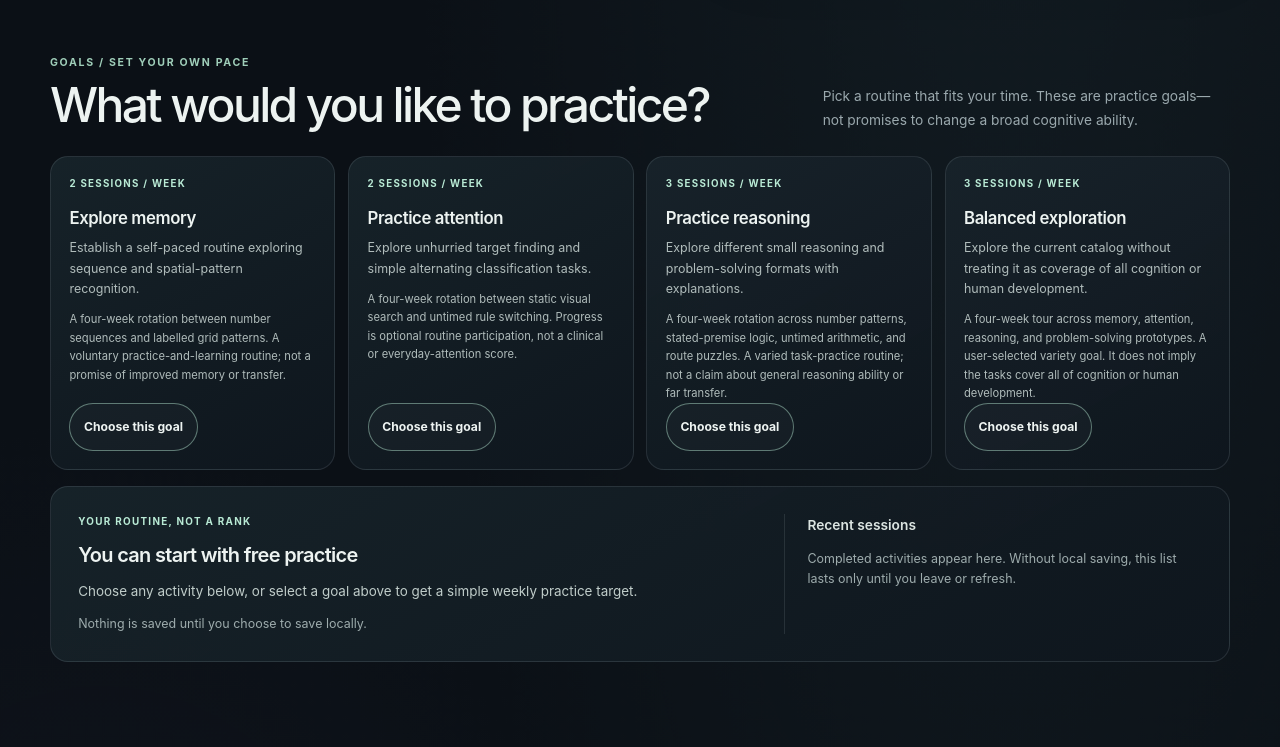
Test: TrainingHub › pauses and resumes the schedule clock without making goals mandatory
The image size is (1280, 747).
(page scrolled)
Expected: the element "Explore memory" is shown, [50,156,335,470]
What coordinates should you click on to do the following:
click the button "Choose this goal" below "Explore memory"
I would click on:
 (134, 427)
Its box is [69,403,198,451].
(page scrolled)
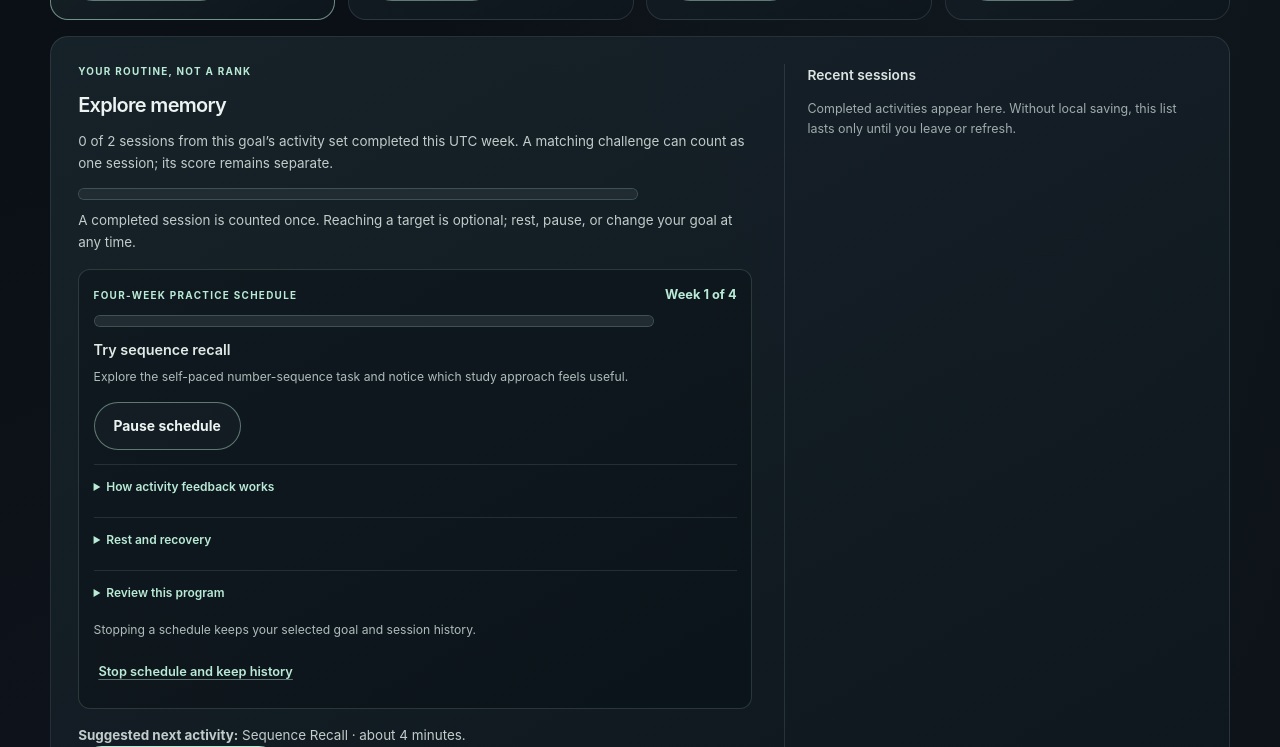
What coordinates should you click on to do the following:
click the button "Pause schedule"
I would click on:
 (167, 426)
Its box is [94,402,241,450].
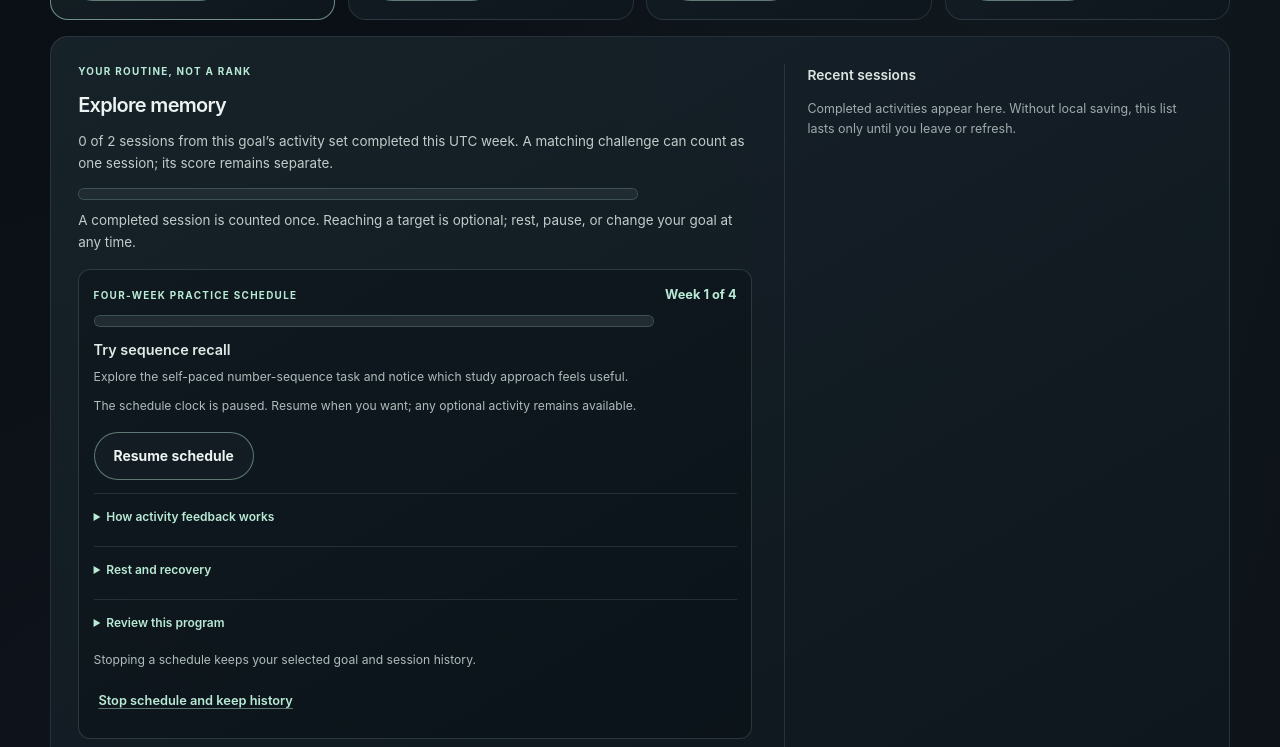
Result: the message shows "schedule clock is paused" at [94,398,636,413]
Result: the button "Resume schedule" is shown
What coordinates should you click on to do the following:
click the button "Resume schedule"
I would click on:
 (174, 456)
Its box is [94,432,254,480].
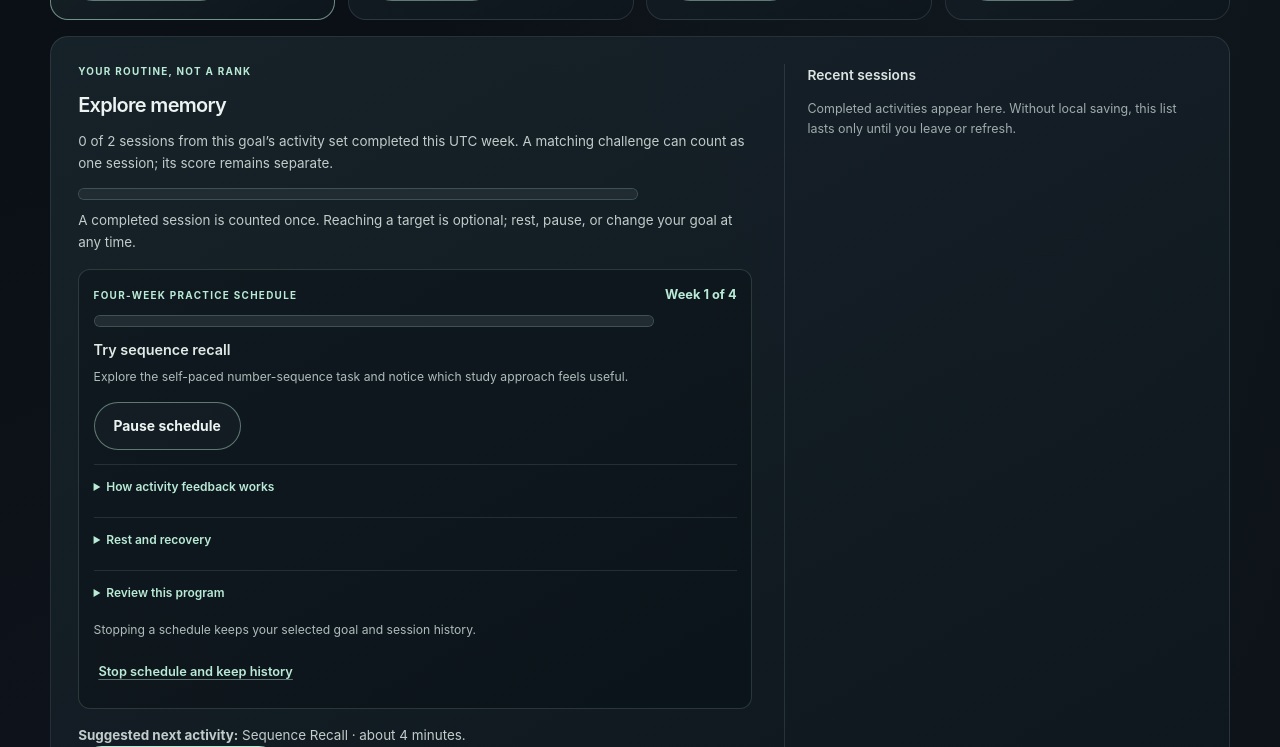
Result: the text "schedule clock is paused" is gone
Result: the button "Pause schedule" is shown at [94,402,241,450]
